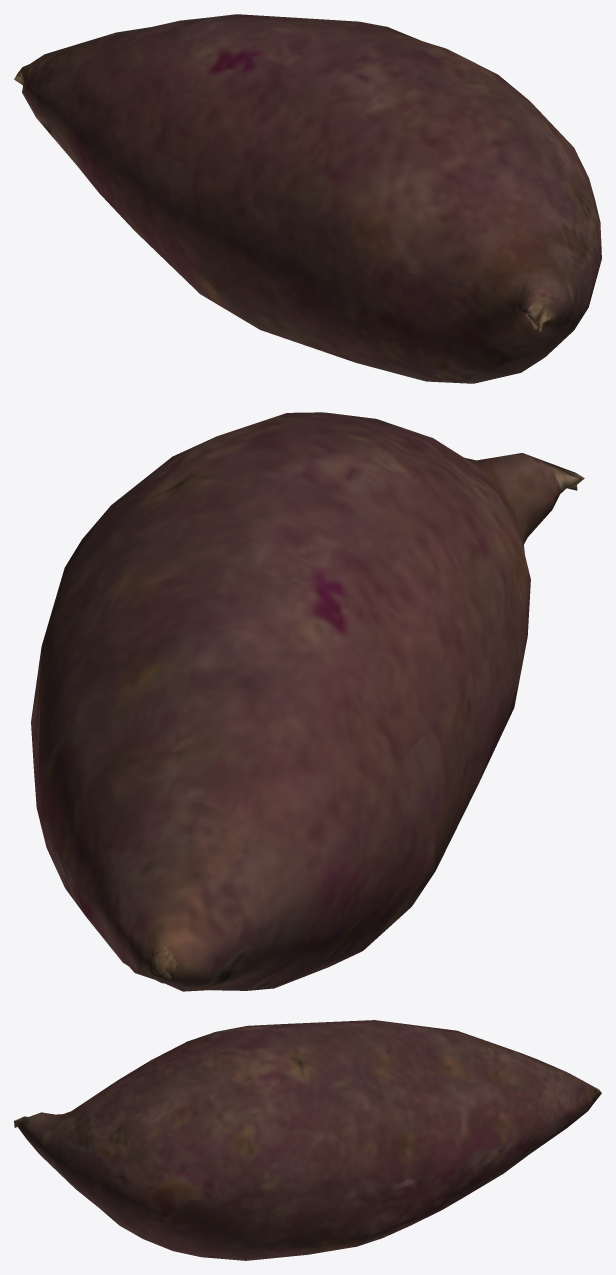
File: Potato.glb
The picture shows the model from 3 angles, top to bottom: view 1: azimuth 30°, elevation 25°; view 2: azimuth 150°, elevation 25°; view 3: azimuth 270°, elevation 25°; orthographic projection. The views are drawn at different scales.
Parts seen in each view (by area): view 1: MDCNR4UXWI01_LOD2(Clone)_Quality_3; view 2: MDCNR4UXWI01_LOD2(Clone)_Quality_3; view 3: MDCNR4UXWI01_LOD2(Clone)_Quality_3.
Part boxes in pixels (box(x1,y1,x2,y2)): MDCNR4UXWI01_LOD2(Clone)_Quality_3: box(14, 14, 601, 383); MDCNR4UXWI01_LOD2(Clone)_Quality_3: box(31, 412, 584, 991); MDCNR4UXWI01_LOD2(Clone)_Quality_3: box(14, 1020, 601, 1260).
Size of the model in its own units: 1.07 by 0.9771 by 2.36.
1 material, 1 textured.
